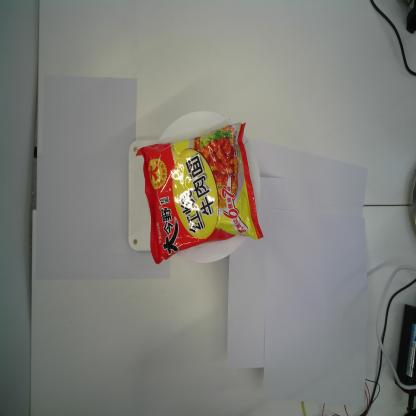Instant Noodles: (135, 122, 264, 266)
